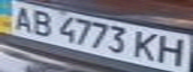3: (106, 24, 130, 56)
4: (51, 15, 78, 44)
7: (87, 20, 112, 52), (69, 17, 93, 47)
A: (6, 3, 39, 34)
B: (27, 8, 57, 37)
H: (154, 34, 190, 68)
K: (130, 29, 163, 62)
